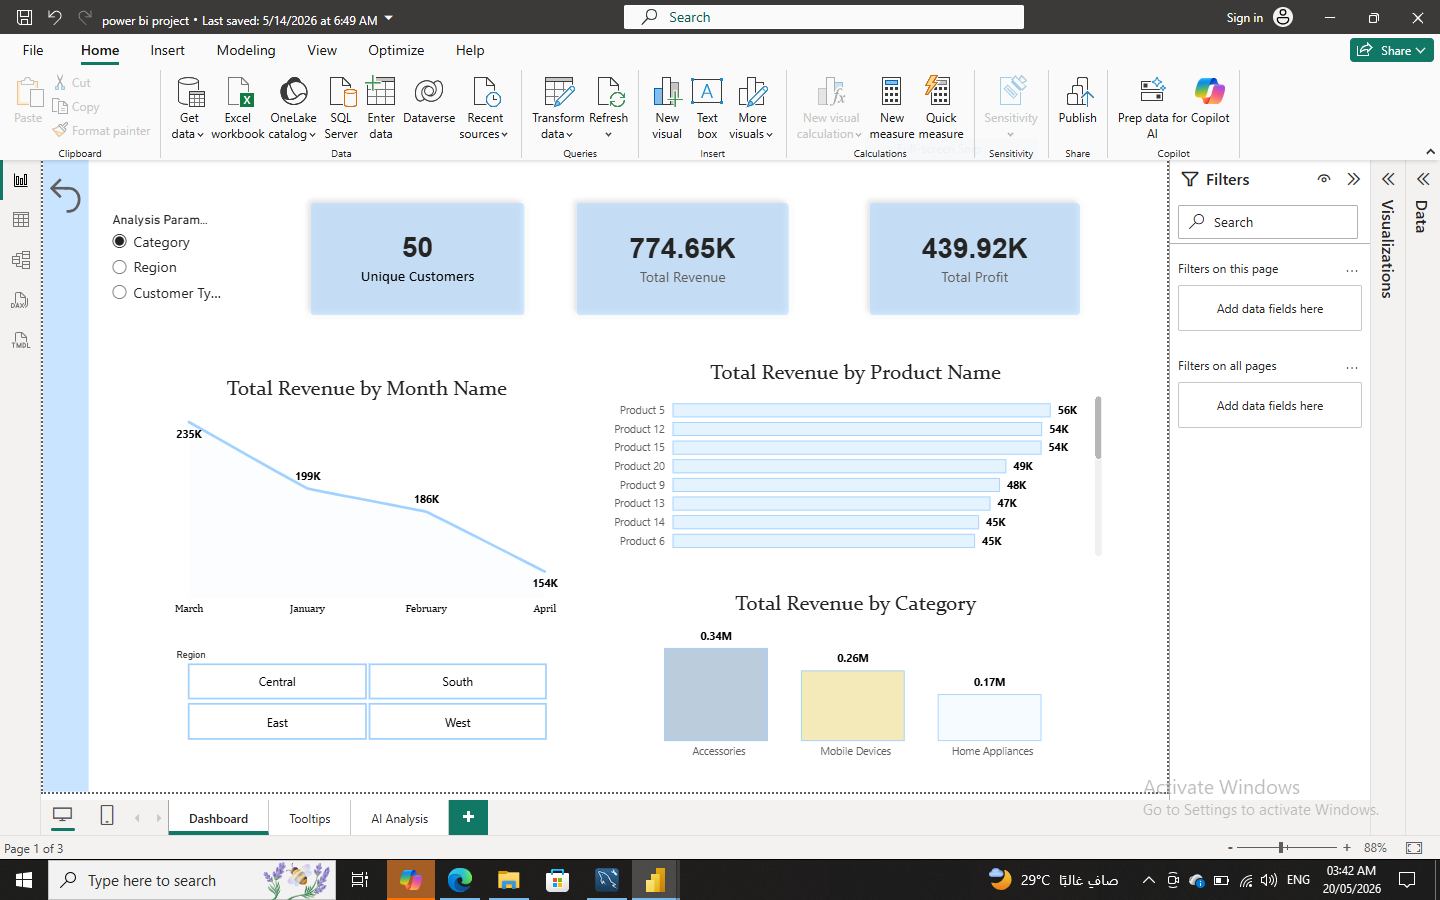

This screenshot's page, from the dashboard's own definition file:
{"tool":"powerbi","page":{"name":"Dashboard","canvas":[1280,720],"ordinal":0},"visuals":[{"type":"cardVisual","fields":{"Data":["sales_data_final.Unique Customers"]},"box":[276.1,0,303,226.9],"z":2},{"type":"shape","box":[0,0,52.1,719.6],"z":8},{"type":"cardVisual","fields":{"Data":["sales_data_final.Total Revenue"]},"box":[579.1,0,300,226.9],"z":10},{"type":"cardVisual","fields":{"Data":["sales_data_final.Total Profit"]},"box":[912.6,0,299,226.7],"z":11},{"type":"clusteredBarChart","fields":{"Category":["products.Product Name"],"Y":["sales_data_final.Total Revenue"]},"box":[640,226.6,571.1,229.7],"z":12},{"type":"columnChart","fields":{"Y":["sales_data_final.Total Revenue"],"Category":["products.Category"]},"box":[640,490,571.1,202.1],"z":13},{"type":"lineChart","fields":{"Y":["sales_data_final.Total Revenue"],"Category":["sales_data_final.Month Name"]},"box":[107.2,245,523.6,281.7],"z":14},{"type":"slicer","fields":{"Values":["sales_data_final.Region"]},"box":[139.3,552.7,459.3,114.8],"z":15},{"type":"actionButton","box":[0,14.4,52.7,51.1],"z":16},{"type":"slicer","fields":{"Values":["Analysis Parameter.Analysis Parameter"]},"box":[66.4,54.7,144.6,115.3],"z":17}]}

Visuals, with their boxes on the page's 1280x720 design canvas (x1, y1, x2, y2). These are canvas units, not pixel positions in the 1440x900 screenshot, which may show the page scaled, cropped or inside an application window:
cardVisual - sales_data_final.Unique Customers: box(276, 0, 579, 227)
shape: box(0, 0, 52, 720)
cardVisual - sales_data_final.Total Revenue: box(579, 0, 879, 227)
cardVisual - sales_data_final.Total Profit: box(913, 0, 1212, 227)
clusteredBarChart - products.Product Name x sales_data_final.Total Revenue: box(640, 227, 1211, 456)
columnChart - sales_data_final.Total Revenue x products.Category: box(640, 490, 1211, 692)
lineChart - sales_data_final.Total Revenue x sales_data_final.Month Name: box(107, 245, 631, 527)
slicer - sales_data_final.Region: box(139, 553, 599, 668)
actionButton: box(0, 14, 53, 66)
slicer - Analysis Parameter.Analysis Parameter: box(66, 55, 211, 170)
